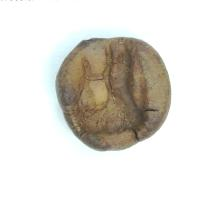NG: (71, 42, 157, 150)
